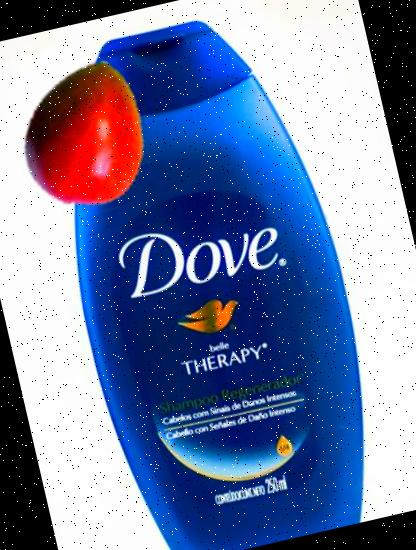Mango: (0, 43, 177, 222)
